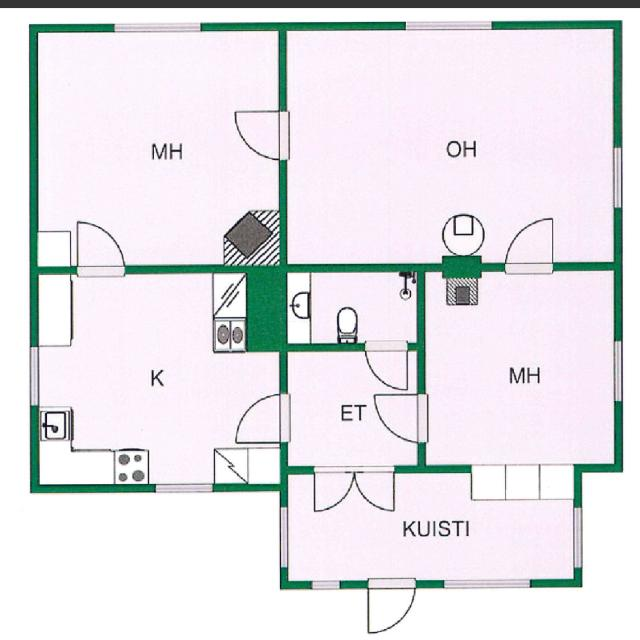door: (230, 109, 288, 160), (504, 215, 553, 274), (368, 578, 417, 636), (234, 394, 288, 442), (371, 394, 425, 441), (365, 343, 408, 395), (314, 464, 355, 514), (354, 464, 395, 514)
